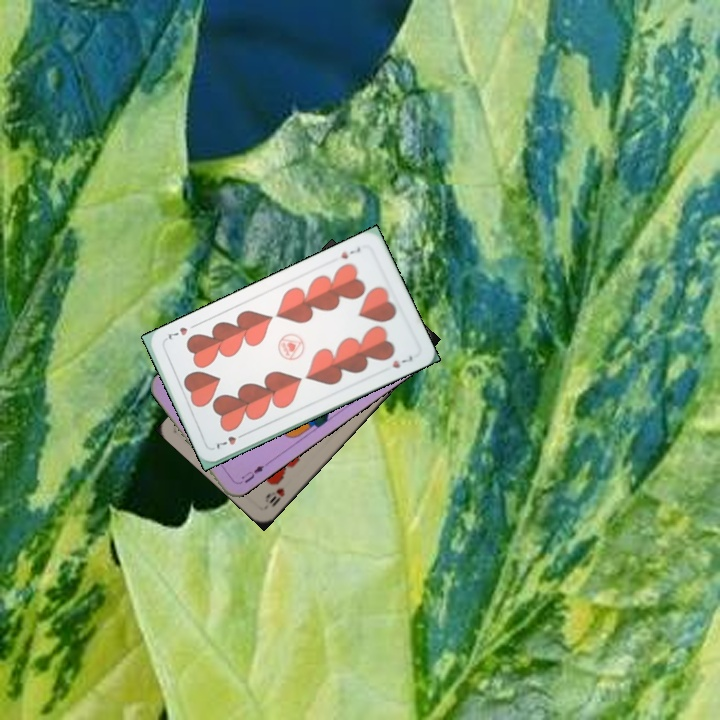EU: (234, 459, 270, 487)
H10: (261, 484, 287, 509)
H7: (212, 429, 249, 451), (337, 243, 363, 262)
